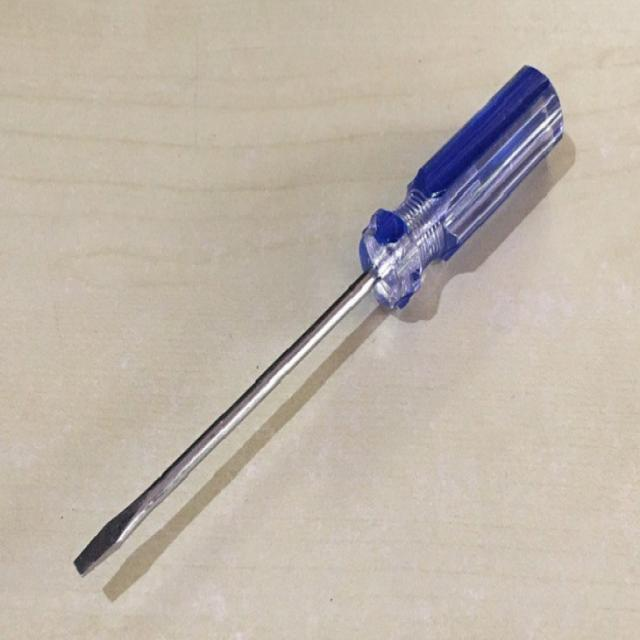screwdriver: (72, 62, 566, 582)
